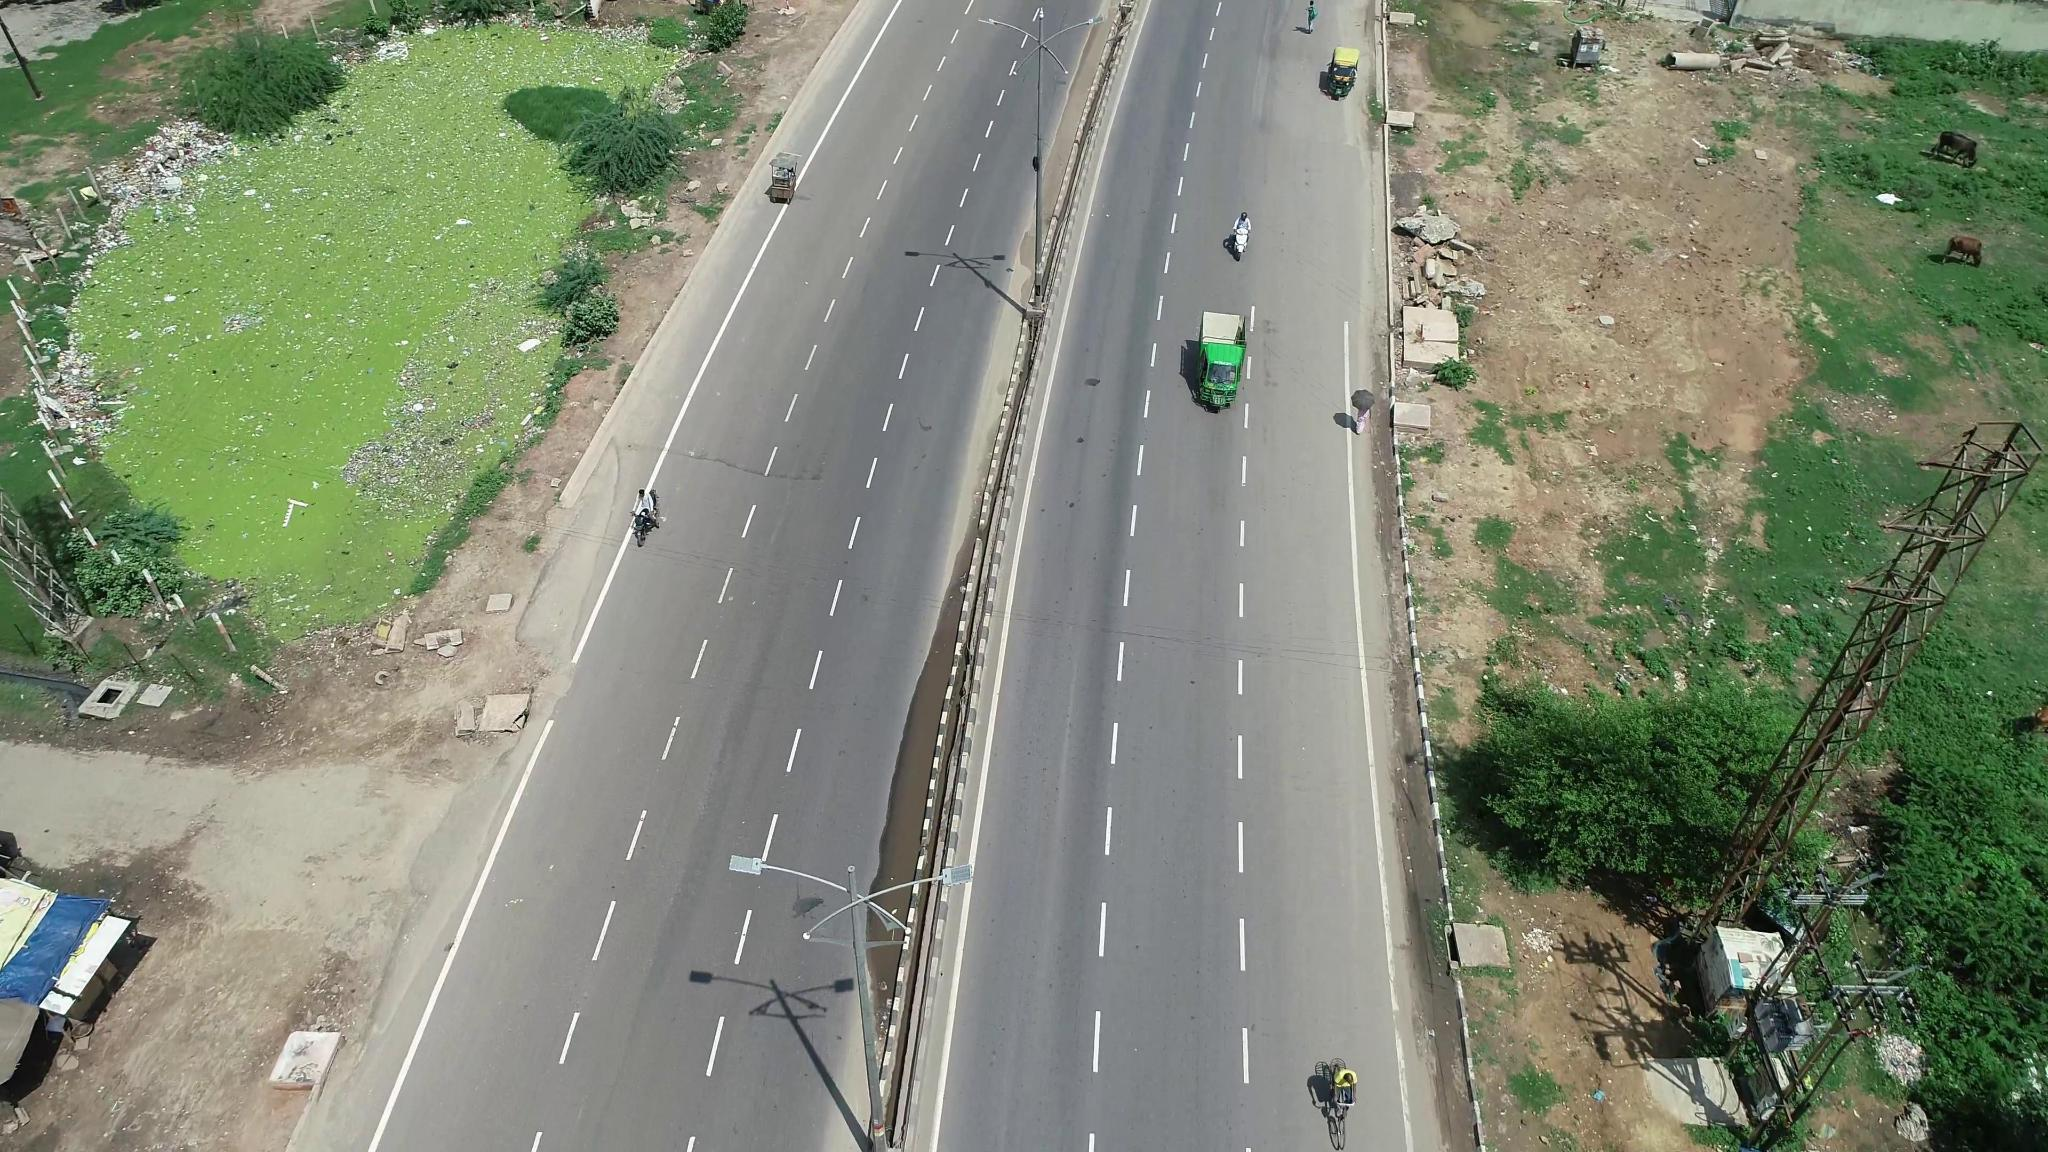Waterlogging: (873, 655, 947, 865)
